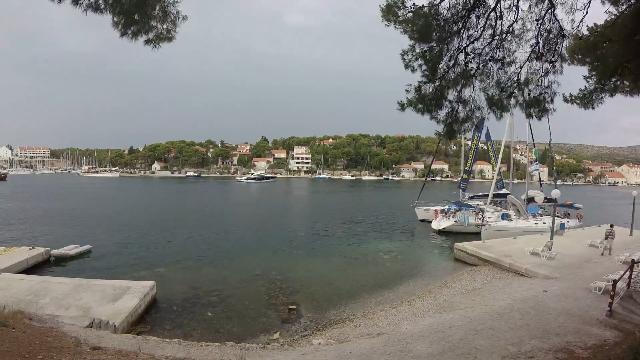speedboat: (233, 164, 283, 184)
